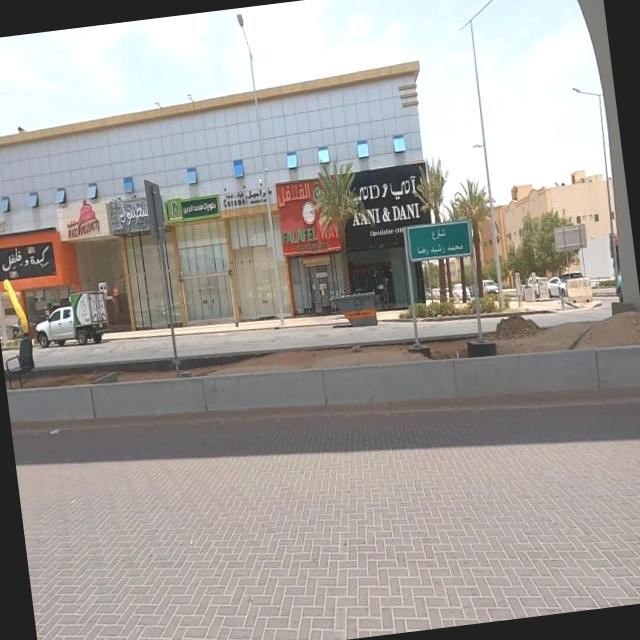debris: (30, 402, 84, 460)
